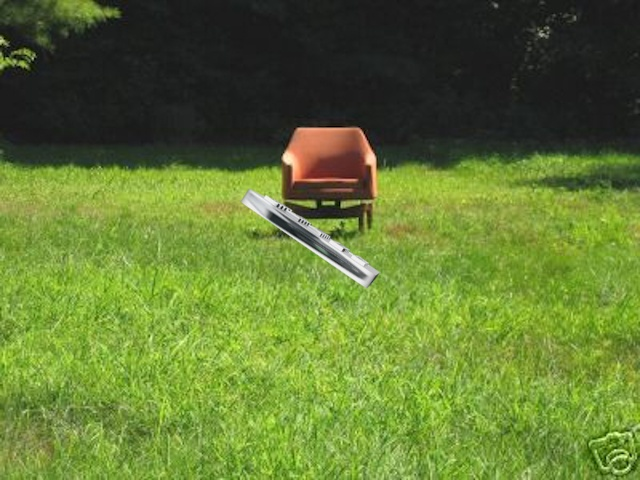calculator: (241, 185, 384, 295)
